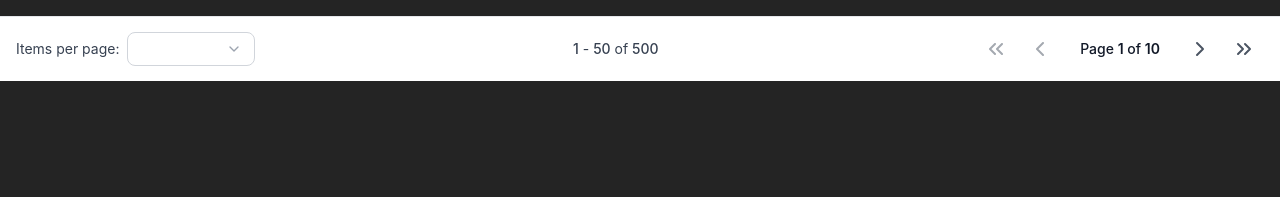
Test case: TablePagination › Page Size Selection › should render all page size options
What coordinates should you click on to do the following:
click the button named "items per page"
I would click on:
 (192, 48)
Its box is [128, 32, 256, 66].
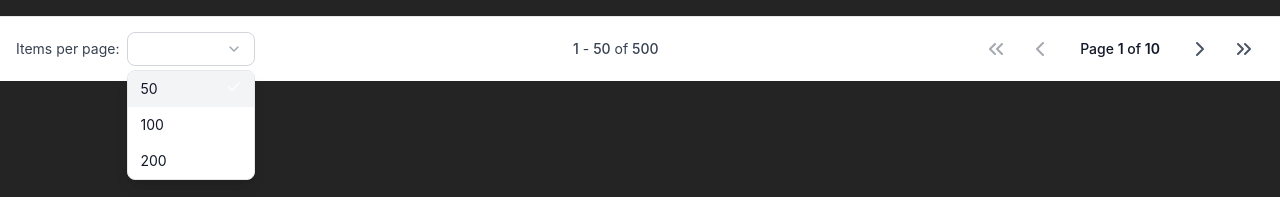
Result: the options read "50", "100", "200", in this order at [128, 70, 254, 106]; [140, 116, 164, 132]; [140, 152, 167, 168]
